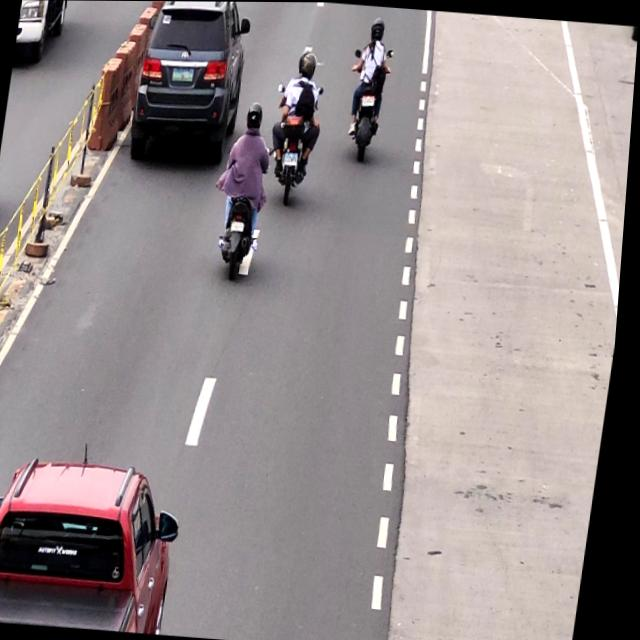Car: (0, 451, 198, 634), (125, 1, 254, 163)
License-Plate: (171, 62, 196, 83), (286, 151, 301, 166), (361, 94, 377, 107)
Motorcycle: (217, 99, 274, 285), (269, 53, 325, 205), (347, 16, 394, 160)
